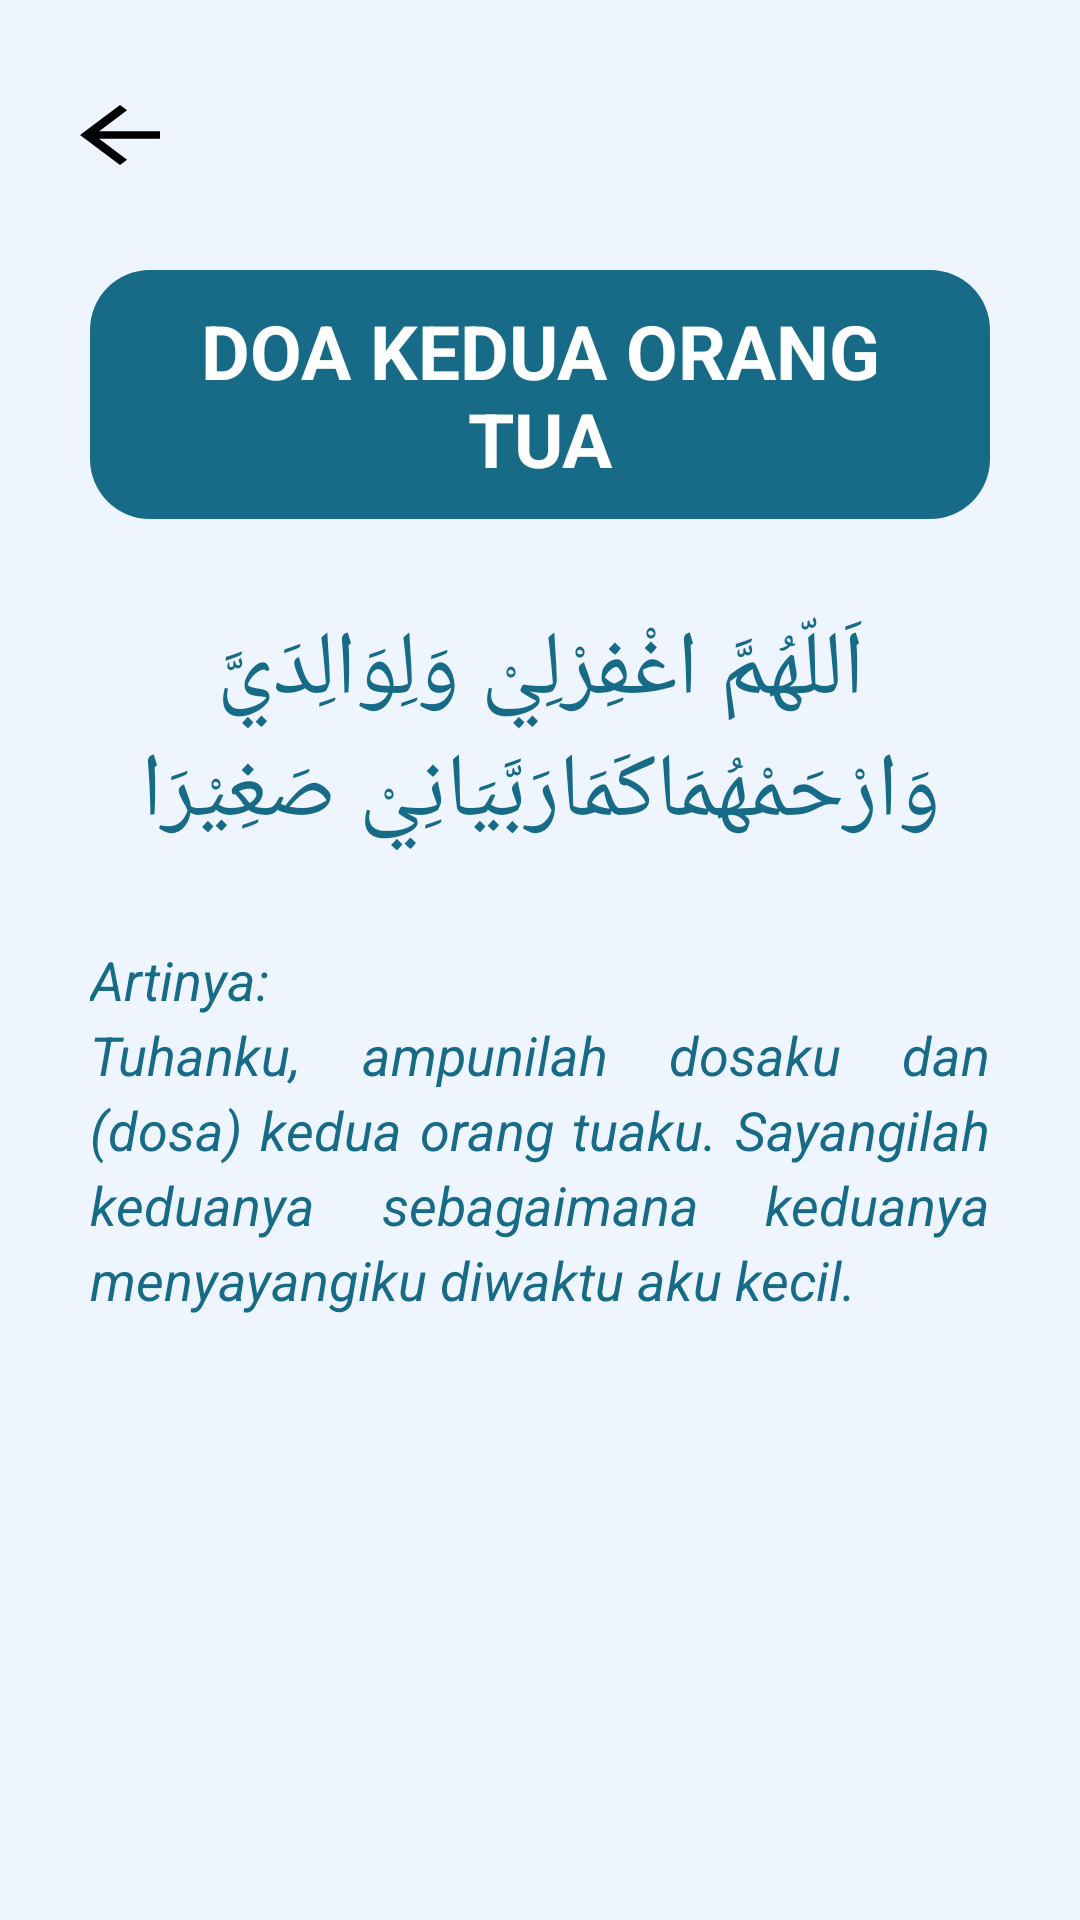

Screen size 1080px x 1920px. Icon name, then its center in pixels as point (x, y):
arrow back: point (120, 135)
